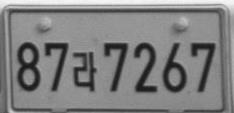2: (132, 40, 158, 92)
6: (161, 42, 187, 93)
7: (190, 41, 216, 93), (43, 42, 69, 92), (103, 42, 129, 91)
8: (15, 40, 41, 91)
라: (72, 50, 97, 91)
